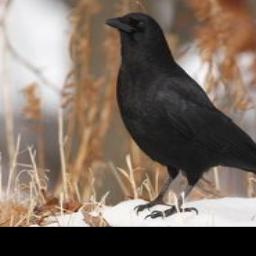Crow: (101, 7, 256, 220)
